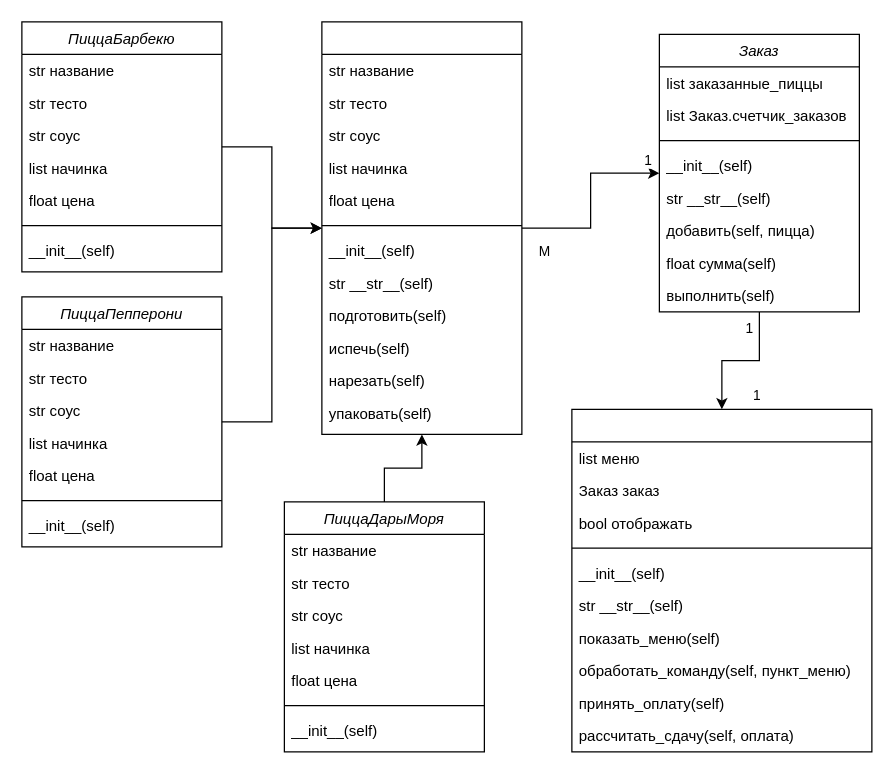
Some shapes in this 894 by 778 pixel diagram are drawn without their labels. Each missing label, with the box of its shape:
Пицца: (321, 21, 522, 434)
Терминал: (571, 408, 872, 752)
